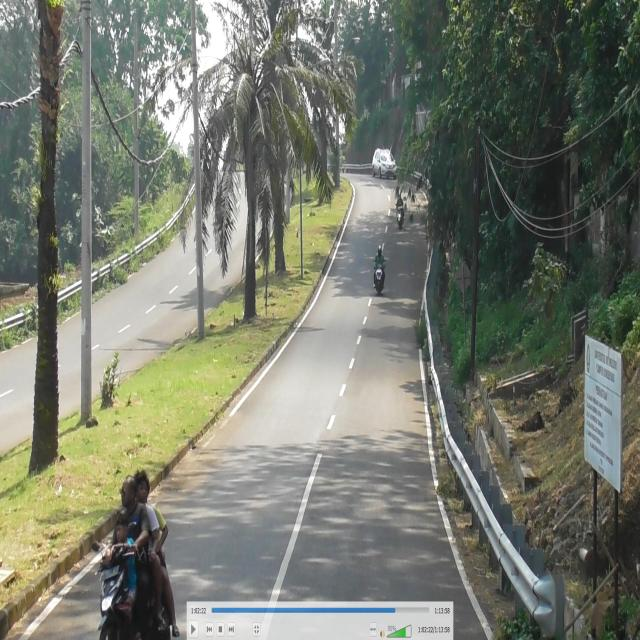motorcycle: (94, 543, 174, 640), (374, 264, 385, 294)
person: (114, 475, 145, 631), (134, 471, 163, 629), (148, 494, 179, 638), (105, 519, 136, 619), (374, 245, 385, 268)
rider_region: (94, 468, 180, 640), (372, 240, 387, 297)
